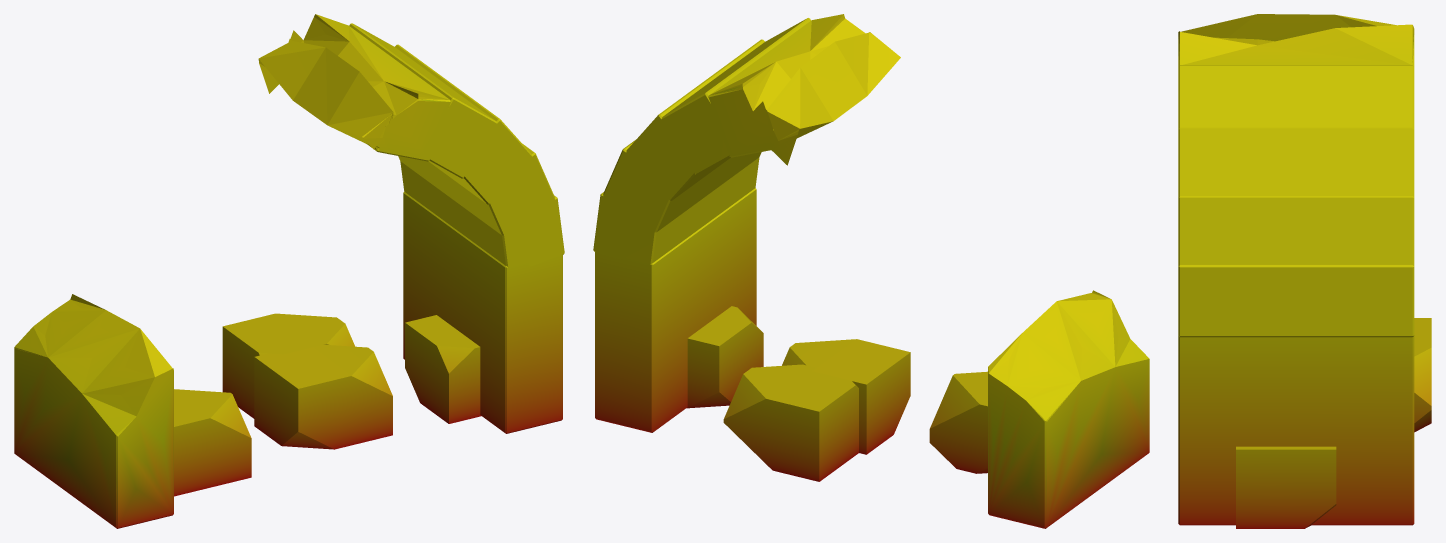
Rendered from cave_mouth_broken.glb.
3 views of the same model, side by side, from view 1: azimuth 30°, elevation 25°; view 2: azimuth 150°, elevation 25°; view 3: azimuth 270°, elevation 25° (orthographic). The views are drawn at different scales.
Visible parts, largest first — view 1: cave_mouth_broken; view 2: cave_mouth_broken; view 3: cave_mouth_broken.
Part boxes in pixels (box(x1,y1,x2,y2)): cave_mouth_broken: box(14, 14, 564, 528); cave_mouth_broken: box(593, 14, 1149, 528); cave_mouth_broken: box(1178, 14, 1431, 528).
Size of what is drawn, in the model's own units: 10.12 by 7.85 by 4.29.
